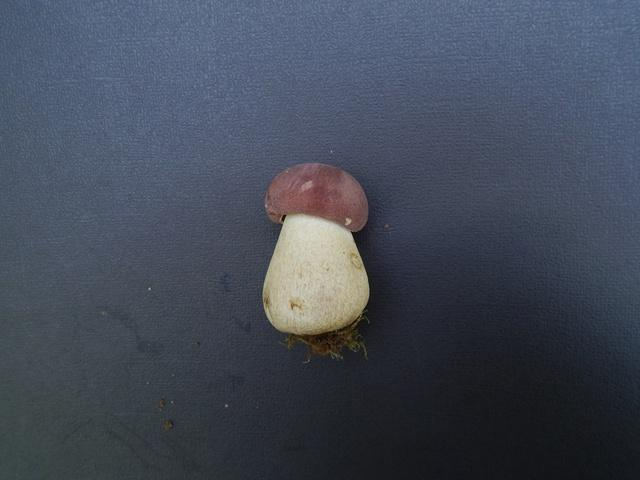poisonous_mushroom: (260, 160, 371, 338)
